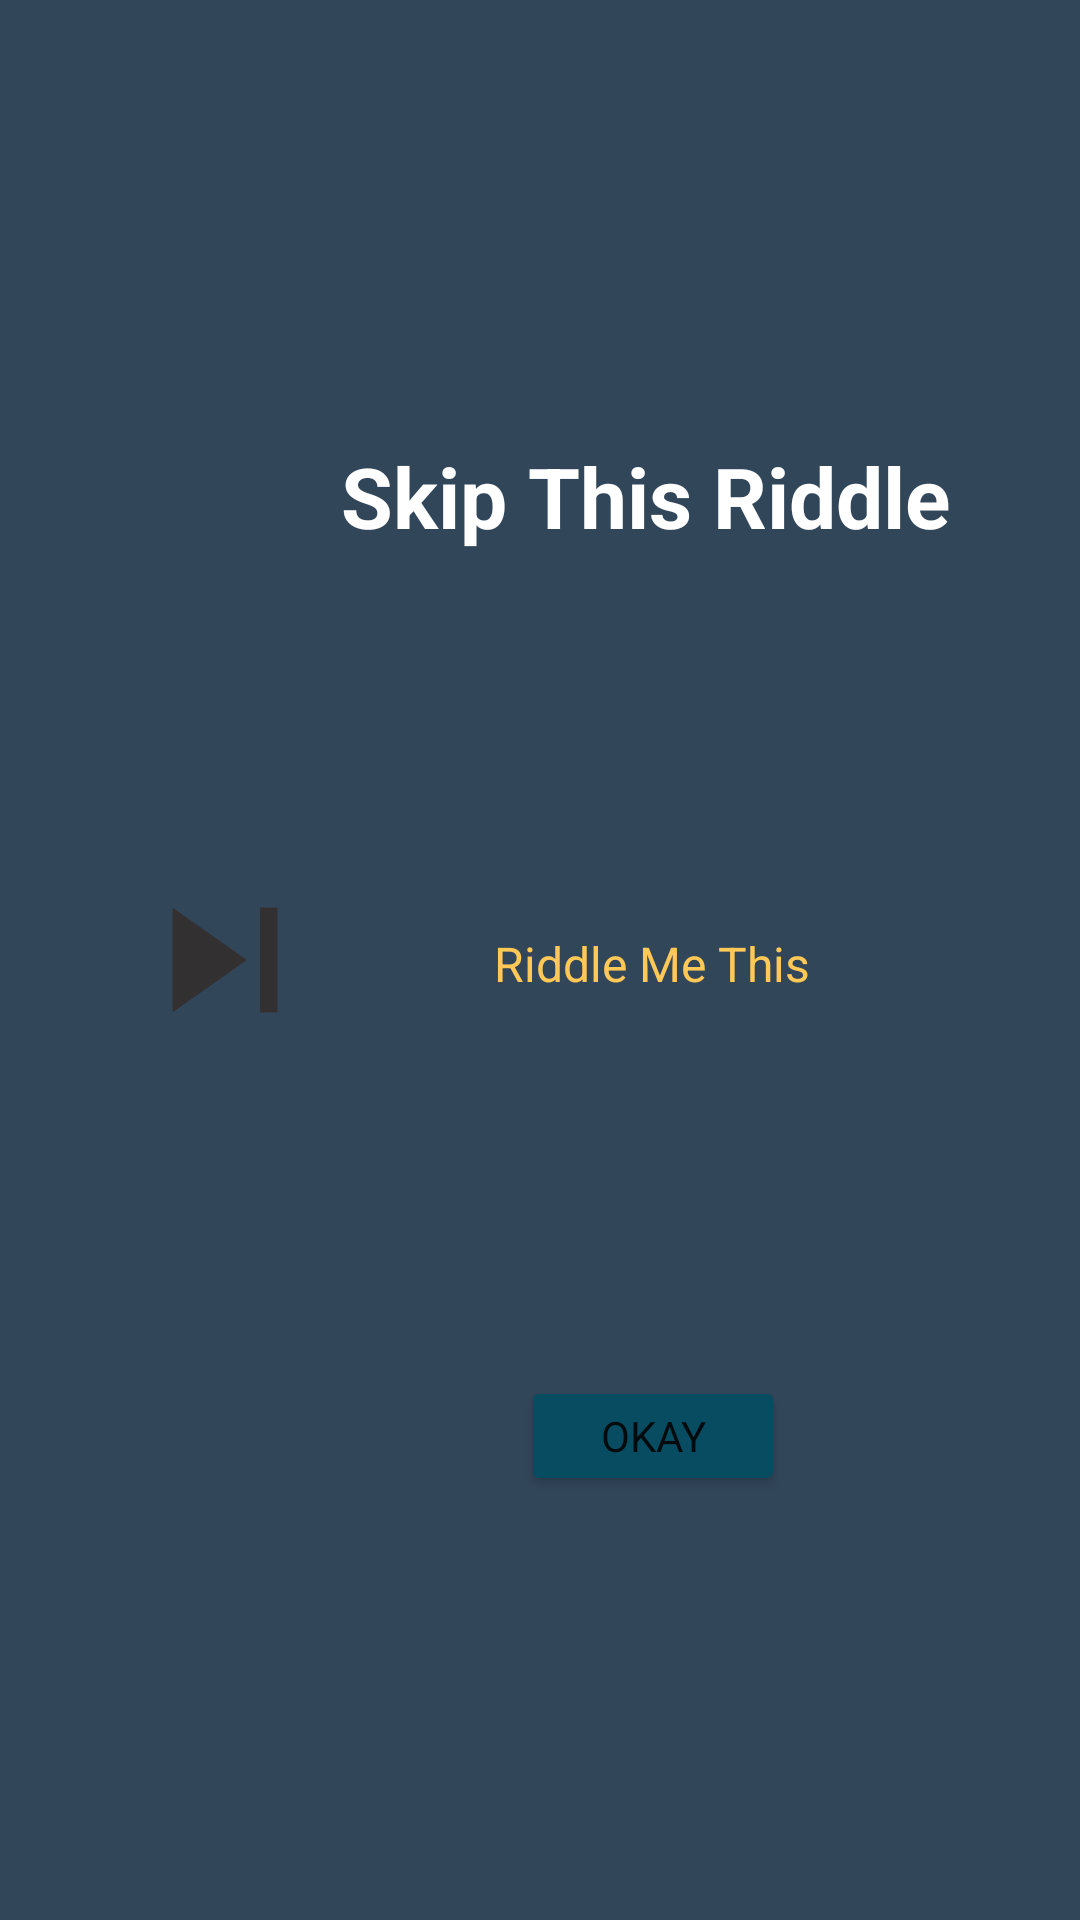

Named icons in this screenshot (1080*1920) and their bounding boxes, box=[x1, y1, x2, y2]:
skip next: box=[173, 908, 277, 1012]
